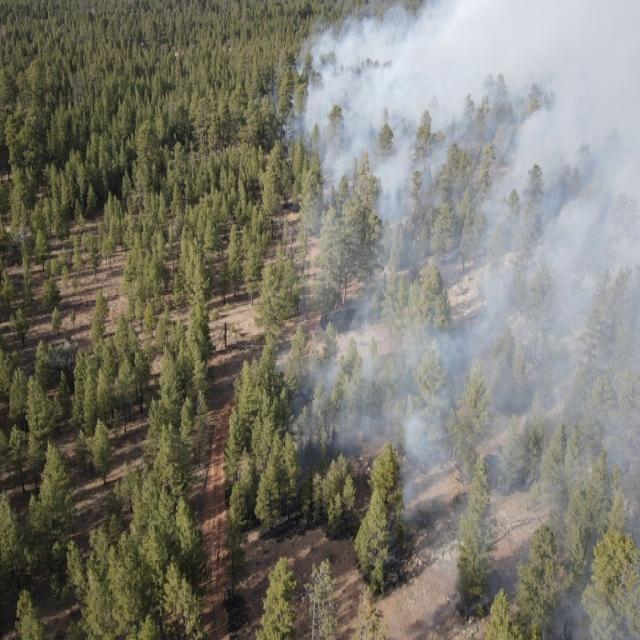smoke: (293, 217, 640, 468), (280, 0, 640, 216), (404, 471, 640, 640)
